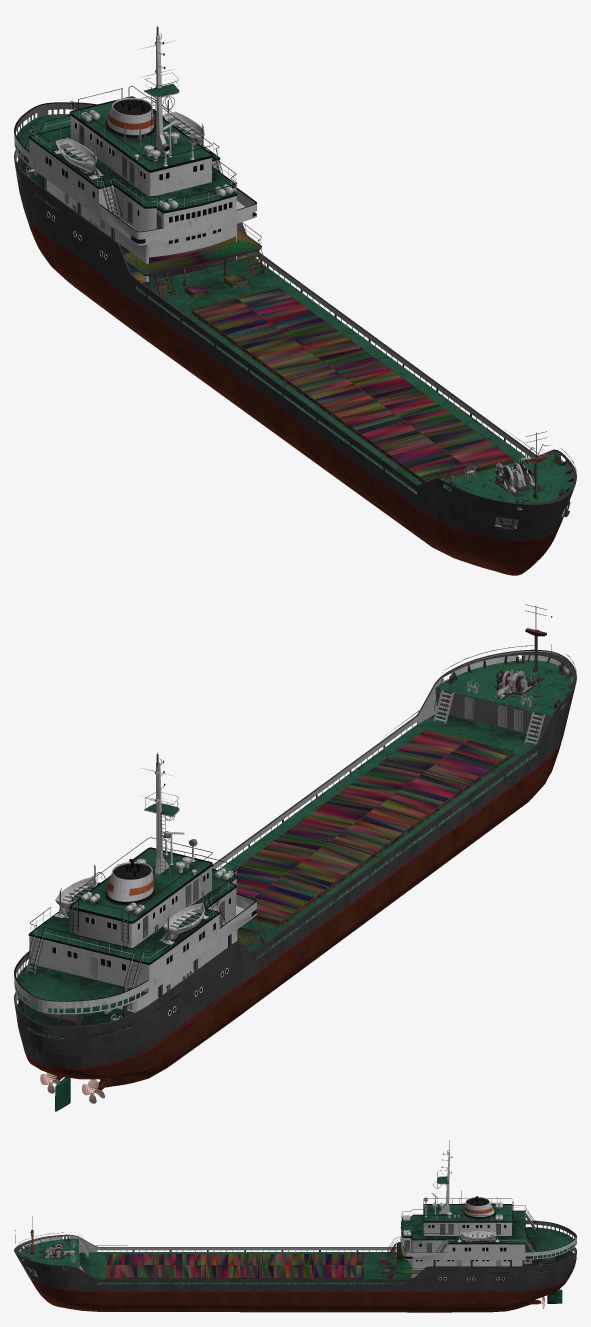
The model's file is bulk-carrier.fbx.
The picture shows the model from 3 angles, top to bottom: view 1: azimuth 30°, elevation 25°; view 2: azimuth 150°, elevation 25°; view 3: azimuth 270°, elevation 25°; orthographic projection. The views are drawn at different scales.
Parts seen in each view (by area): view 1: center2_center2_0, center2_left_0, center2_center1_0; view 2: center2_center2_0, center2_left_0, center2_center1_0; view 3: center2_left_0, center2_center2_0, center2_center1_0.
Part boxes in pixels (left/top/right/bottom): center2_center2_0: left=14, top=25, right=572, bottom=508; center2_left_0: left=14, top=150, right=576, bottom=575; center2_center1_0: left=121, top=222, right=547, bottom=499; center2_center2_0: left=14, top=660, right=572, bottom=1111; center2_left_0: left=14, top=616, right=576, bottom=1103; center2_center1_0: left=232, top=604, right=546, bottom=947; center2_left_0: left=14, top=1230, right=576, bottom=1312; center2_center2_0: left=19, top=1140, right=576, bottom=1303; center2_center1_0: left=30, top=1216, right=423, bottom=1278.
Bounding box in the file's own units: 1214 × 2647 × 8162.
